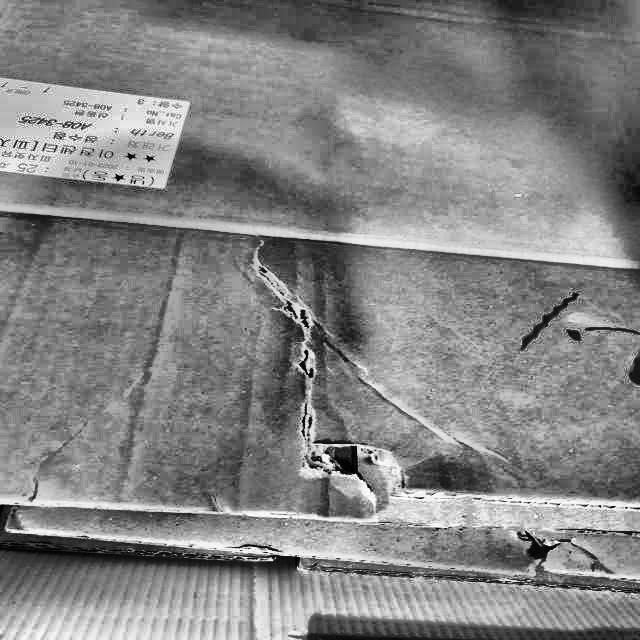box: (0, 20, 640, 555)
hole: (261, 272, 409, 512)
